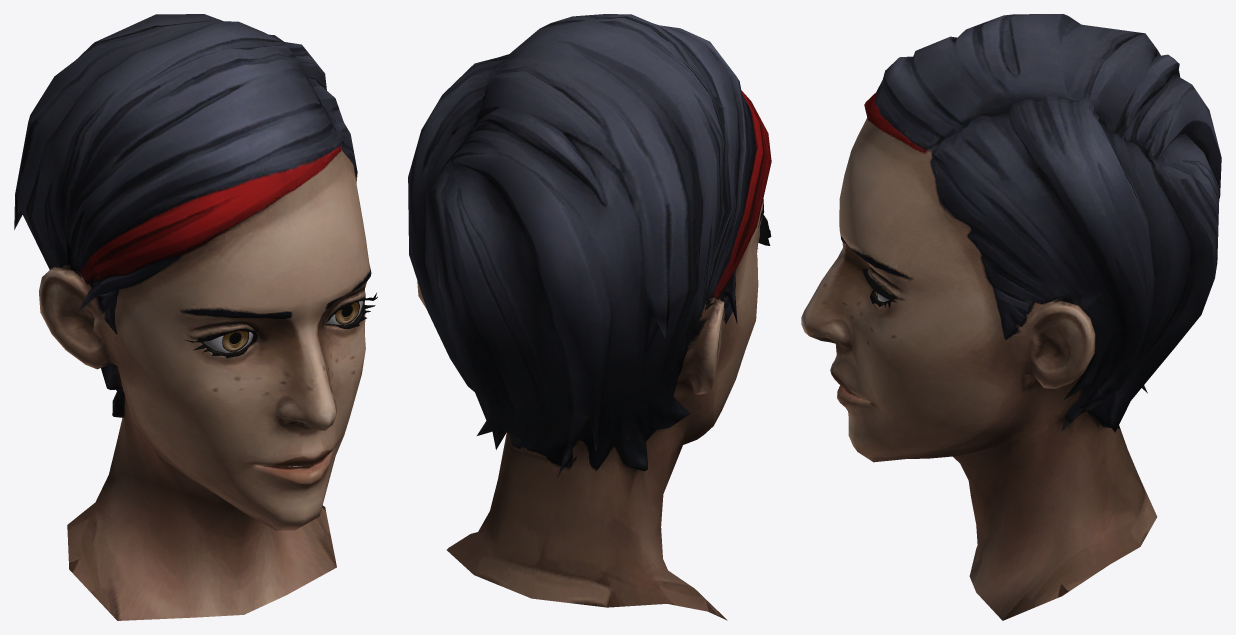
Rendered from bloody-mary.glb.
The picture shows the model from 3 angles, left to right: view 1: azimuth 30°, elevation 25°; view 2: azimuth 150°, elevation 25°; view 3: azimuth 270°, elevation 25°; orthographic projection. The views are drawn at different scales.
Visible parts, largest first — view 1: Object_10, Object_12, Object_9, Object_6; view 2: Object_12, Object_10; view 3: Object_12, Object_10.
Part boxes in pixels (<box>): Object_10: <box>39,150,371,620</box>; Object_12: <box>14,14,357,417</box>; Object_9: <box>203,300,363,352</box>; Object_6: <box>184,293,377,358</box>; Object_12: <box>408,14,771,478</box>; Object_10: <box>417,199,764,620</box>; Object_12: <box>864,14,1221,432</box>; Object_10: <box>801,118,1157,620</box>.
Bounding box in the file's own units: 0.2198 × 0.4091 × 0.2844.
Materials: 9 (9 with a texture image).
